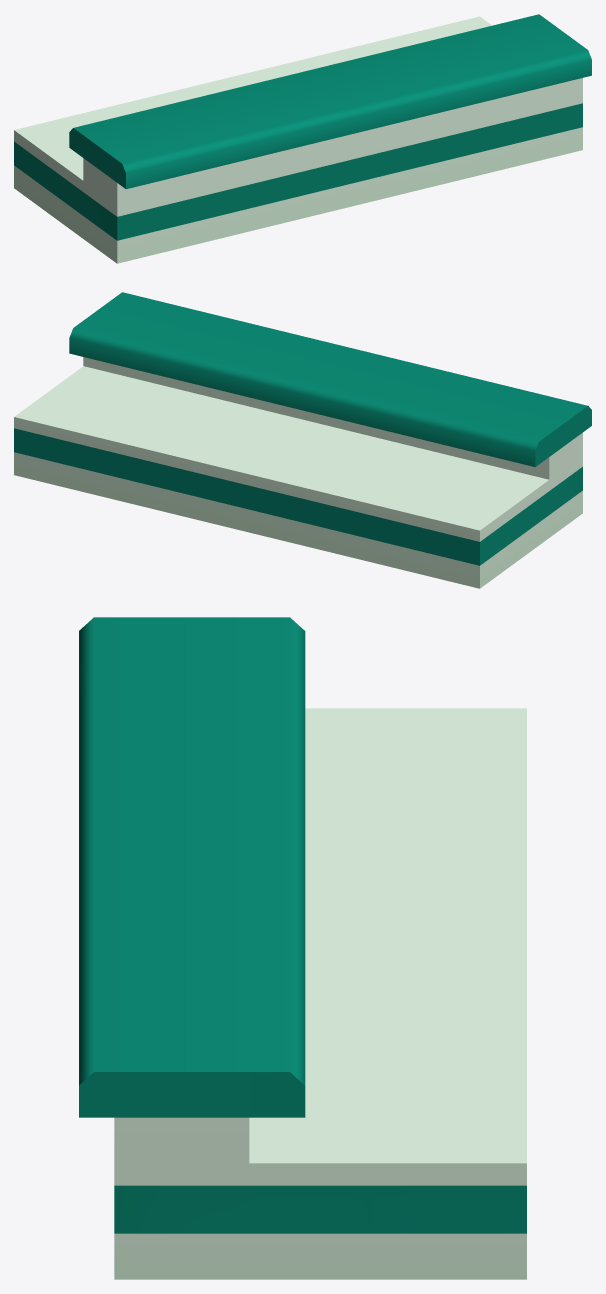
The model's file is Decor_Banbar_C_01 1.fbx.
3 renders of one model, top to bottom at view 1: azimuth 30°, elevation 25°; view 2: azimuth 150°, elevation 25°; view 3: azimuth 270°, elevation 25°, orthographic. The views are drawn at different scales.
Visible parts, largest first — view 1: Decor_Banbar_C_01; view 2: Decor_Banbar_C_01; view 3: Decor_Banbar_C_01.
Boxes of the visible parts, x1,y1,x2,y2 form: Decor_Banbar_C_01: (14,14,591,263); Decor_Banbar_C_01: (14,292,591,588); Decor_Banbar_C_01: (79,617,526,1279).
Bounding box in the file's own units: 352 × 74.8 × 146.
